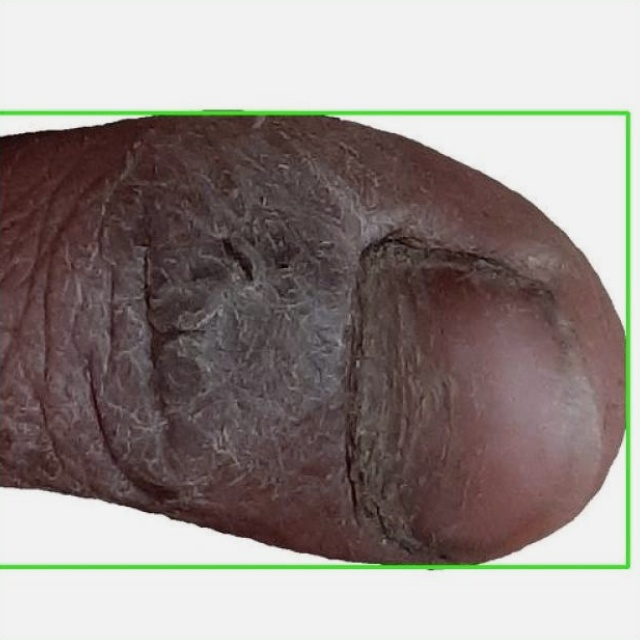Contact Dermatitis: (0, 0, 639, 639), (0, 112, 628, 566)
